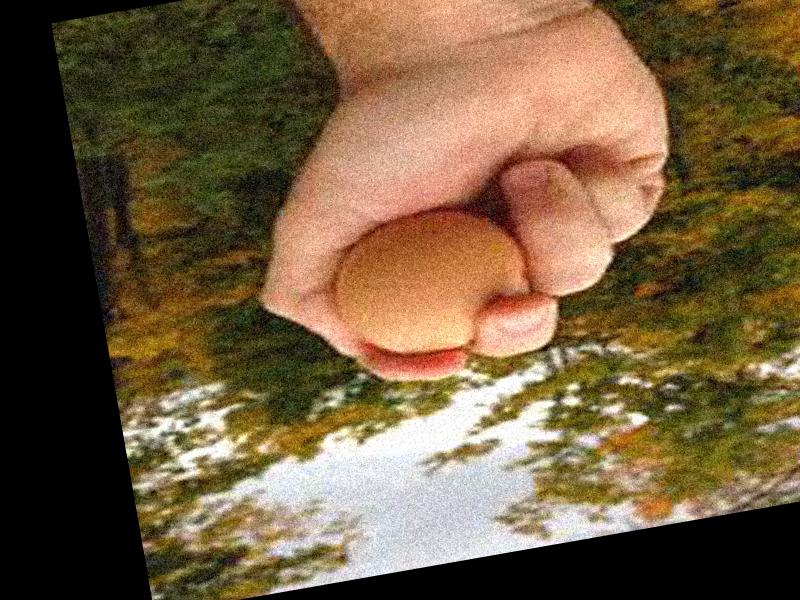Eggs: (326, 196, 545, 365)
